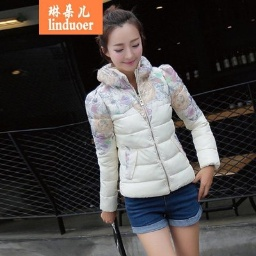face: (89, 4, 149, 77)
